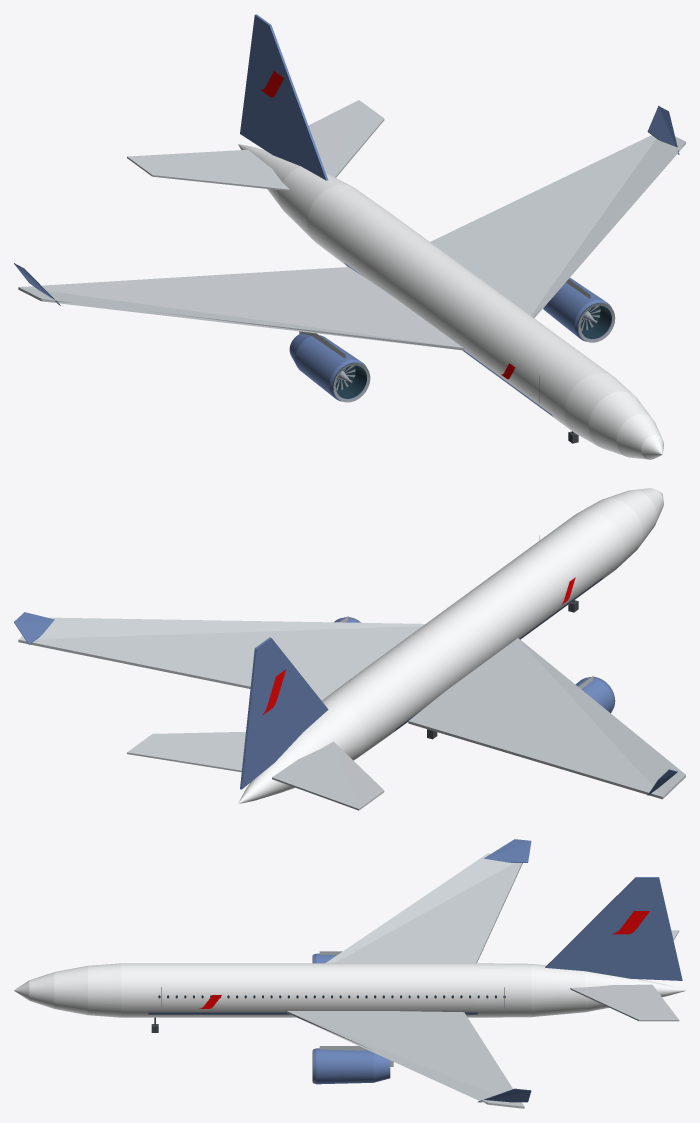
File: a35k-AFR-v3.gltf
The picture shows the model from 3 angles, top to bottom: view 1: azimuth 30°, elevation 25°; view 2: azimuth 150°, elevation 25°; view 3: azimuth 270°, elevation 25°; orthographic projection. The views are drawn at different scales.
Visible parts, largest first — view 1: object 1; view 2: object 1; view 3: object 1.
Boxes of the visible parts, x1,y1,x2,y2 form: object 1: (14, 14, 685, 459); object 1: (14, 488, 685, 810); object 1: (14, 839, 685, 1108).
Bounding box in the file's own units: 65 × 19.16 × 74.
Materials: 8 (1 with a texture image).
